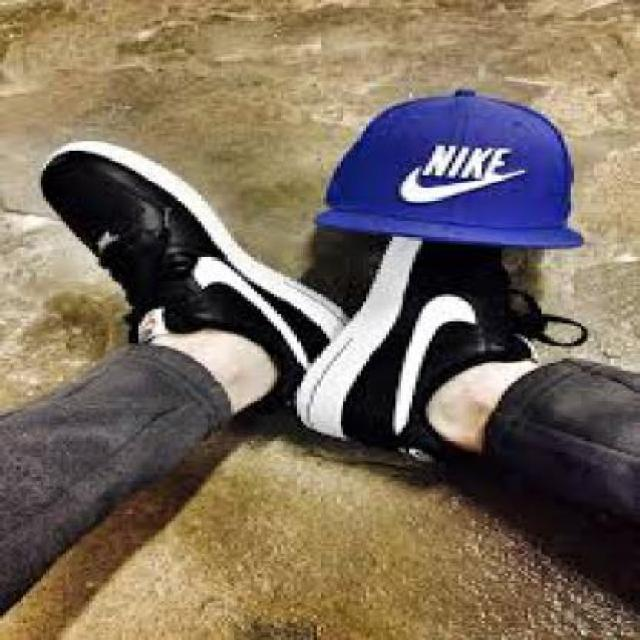Nike: (386, 285, 479, 441), (390, 138, 525, 206)
